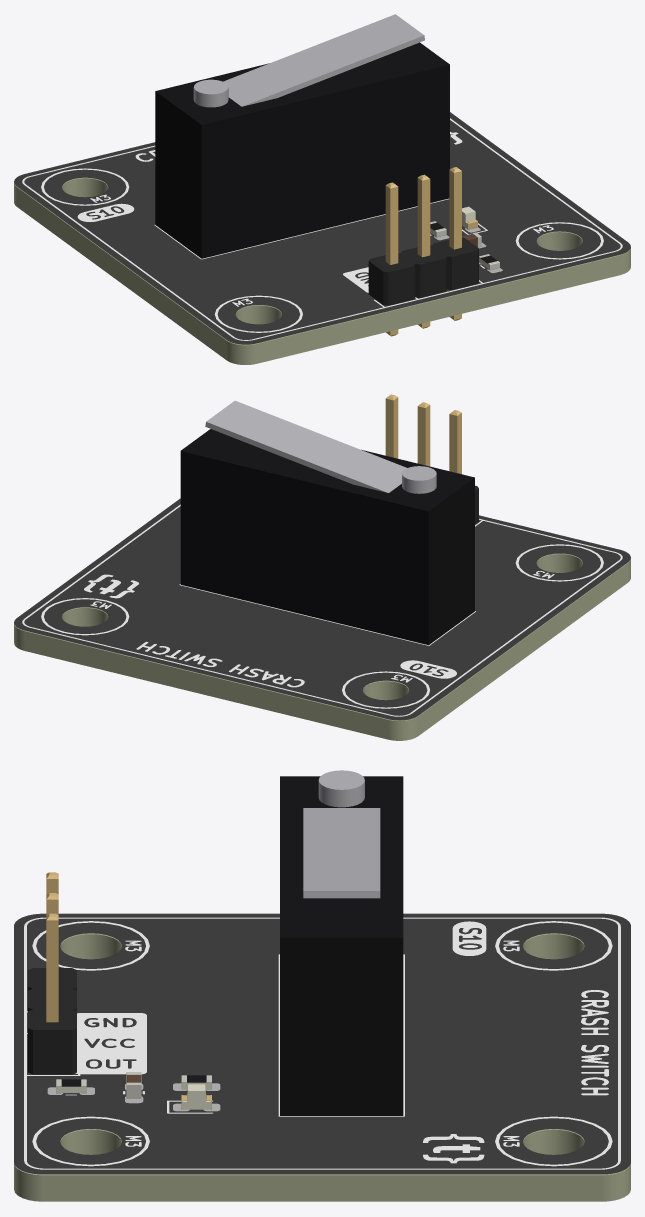
3 renders of one model, top to bottom at view 1: azimuth 30°, elevation 25°; view 2: azimuth 150°, elevation 25°; view 3: azimuth 270°, elevation 25°, orthographic. The views are drawn at different scales.
Visible parts, largest first — view 1: SW_SS5GL_0, =>[0:1:1:10], =>[0:1:1:12], J1, SW_SS5GL_1, =>[0:1:1:8], SW_SS5GL_2; view 2: =>[0:1:1:10], SW_SS5GL_0, =>[0:1:1:12], SW_SS5GL_1, =>[0:1:1:8], J1, SW_SS5GL_2; view 3: =>[0:1:1:10], SW_SS5GL_0, =>[0:1:1:12], =>[0:1:1:8], SW_SS5GL_1, J1, SW_SS5GL_2, D1, =>[0:1:1:7].
Part boxes in pixels (x1,y1,x2,y2): SW_SS5GL_0: (155, 42, 449, 258); =>[0:1:1:10]: (14, 112, 630, 344); =>[0:1:1:12]: (14, 177, 630, 364); J1: (368, 167, 478, 336); SW_SS5GL_1: (223, 14, 424, 106); =>[0:1:1:8]: (22, 118, 622, 340); SW_SS5GL_2: (193, 79, 228, 107); =>[0:1:1:10]: (14, 498, 630, 720); SW_SS5GL_0: (180, 429, 474, 645); =>[0:1:1:12]: (14, 553, 630, 740); SW_SS5GL_1: (205, 400, 406, 492); =>[0:1:1:8]: (22, 504, 622, 716); J1: (385, 394, 478, 524); SW_SS5GL_2: (402, 466, 436, 493); =>[0:1:1:10]: (14, 913, 630, 1174); SW_SS5GL_0: (280, 776, 403, 1115); =>[0:1:1:12]: (14, 933, 630, 1201); =>[0:1:1:8]: (24, 917, 620, 1169); SW_SS5GL_1: (303, 808, 380, 898); J1: (28, 872, 76, 1074); SW_SS5GL_2: (318, 770, 364, 807); D1: (181, 1084, 211, 1109); =>[0:1:1:7]: (47, 1083, 220, 1111).
Size of the model in its own units: 0.032 by 0.0157 by 0.032.
